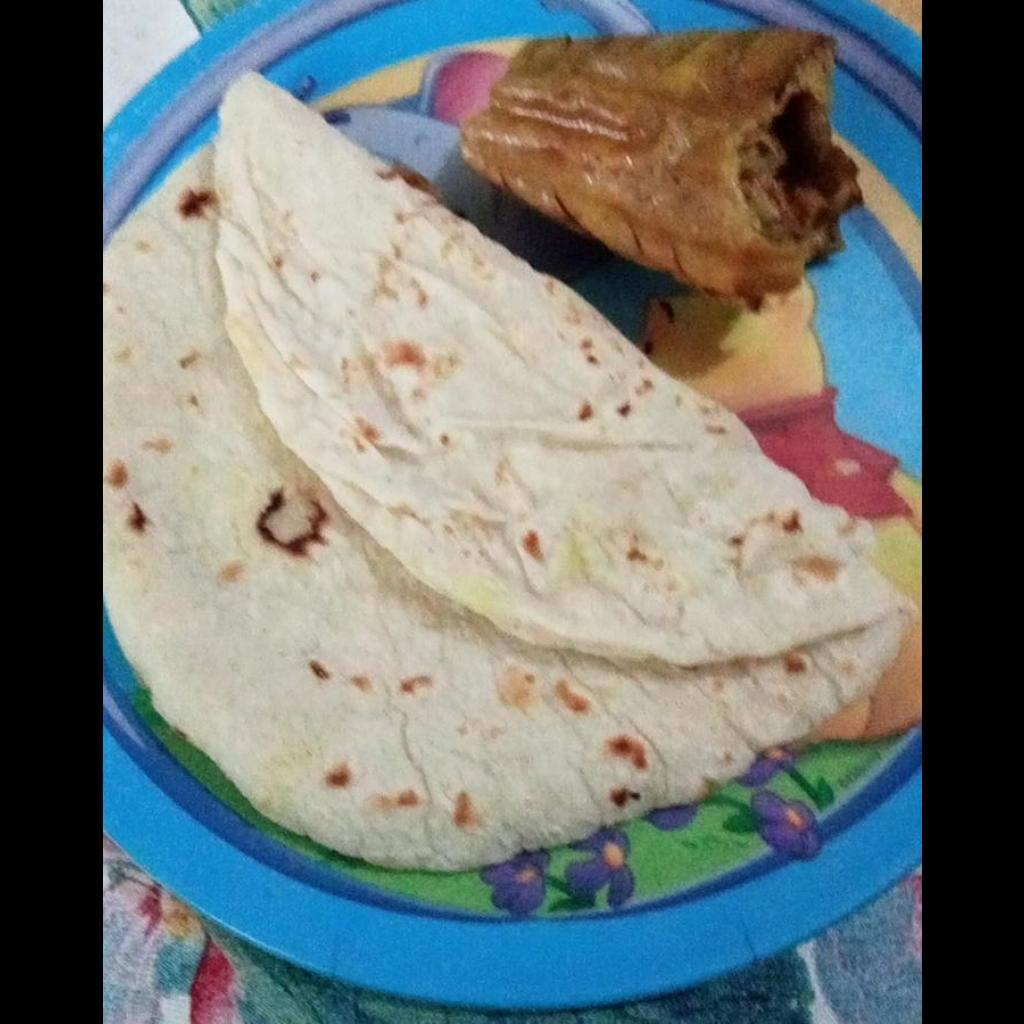roll: (456, 30, 863, 314)
ruti: (102, 64, 915, 870)
